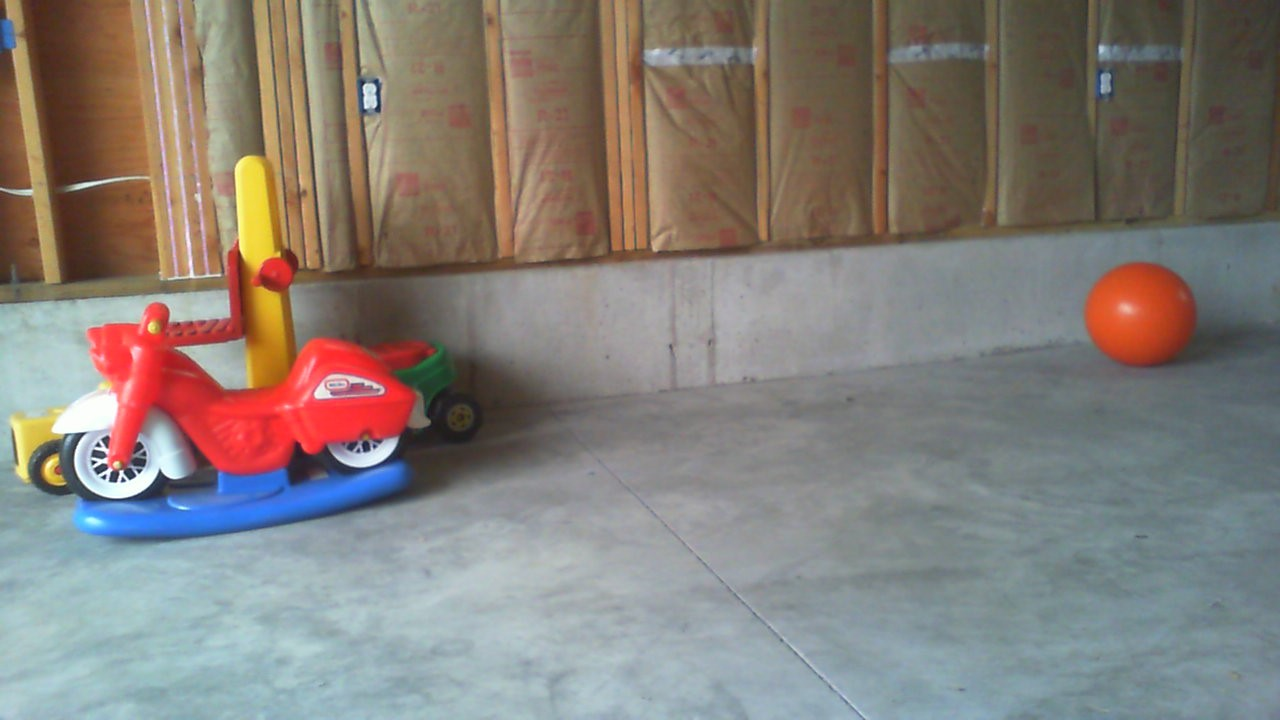Ball: (1087, 260, 1196, 365)
